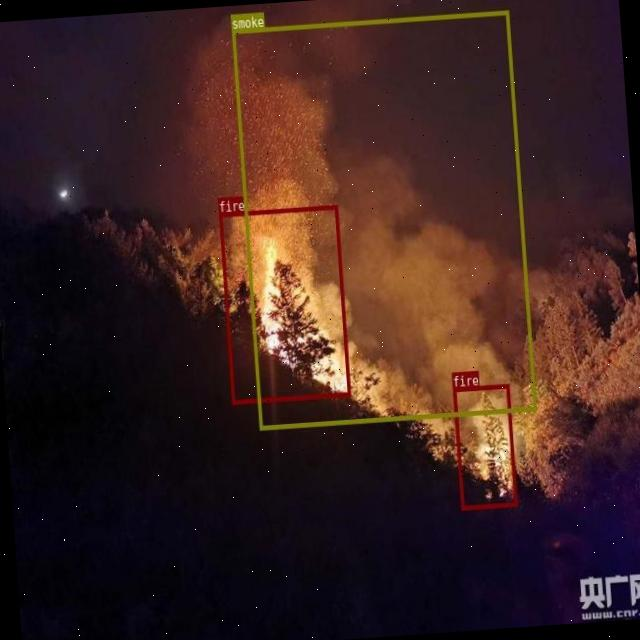fire: (218, 204, 350, 404), (452, 383, 516, 509)
smoke: (230, 9, 536, 428)
